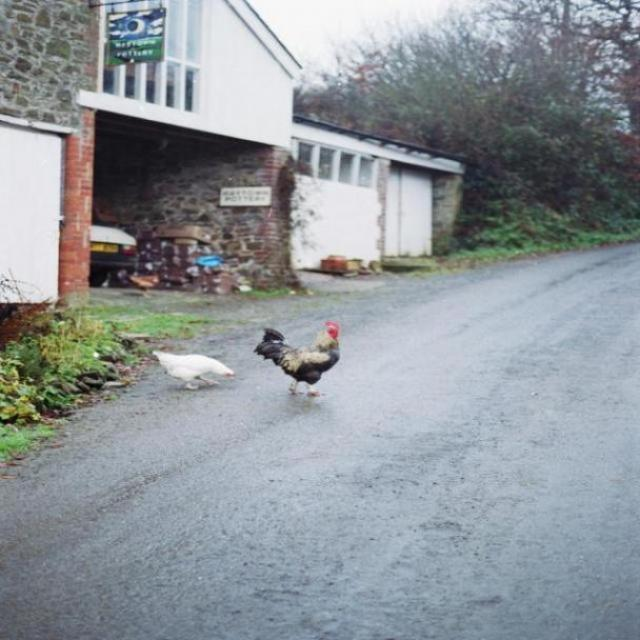Chicken: (238, 316, 353, 393), (146, 351, 239, 390), (119, 265, 168, 300)
